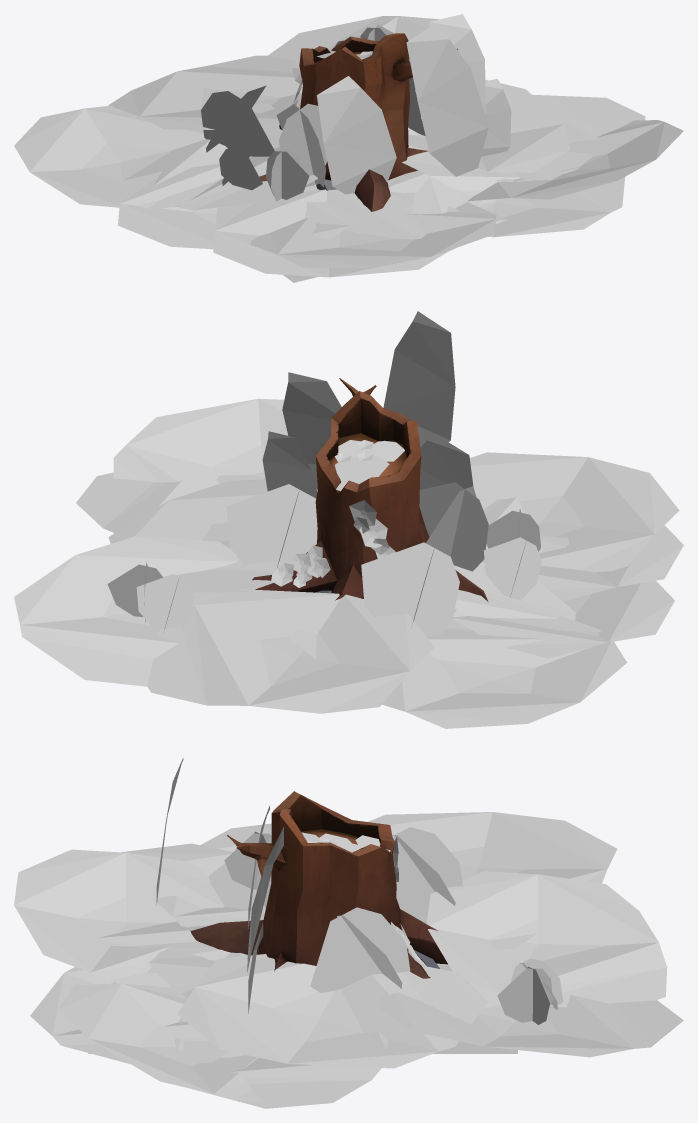
File: tree.fbx
3 renders of one model, top to bottom at view 1: azimuth 30°, elevation 25°; view 2: azimuth 150°, elevation 25°; view 3: azimuth 270°, elevation 25°, orthographic. The views are drawn at different scales.
Parts seen in each view (by area): view 1: Plane.025, Cylinder; view 2: Plane.025, Cylinder; view 3: Plane.025, Cylinder, Plane.
Boxes of the visible parts, left/top/right/bottom form: Plane.025: left=14, top=14, right=683, bottom=277; Cylinder: left=259, top=33, right=457, bottom=211; Plane.025: left=14, top=311, right=683, bottom=728; Cylinder: left=252, top=378, right=488, bottom=601; Plane.025: left=14, top=758, right=683, bottom=1108; Cylinder: left=190, top=791, right=447, bottom=978; Plane: left=88, top=963, right=517, bottom=1053.
Bounding box in the file's own units: 1044 × 393 × 996.
